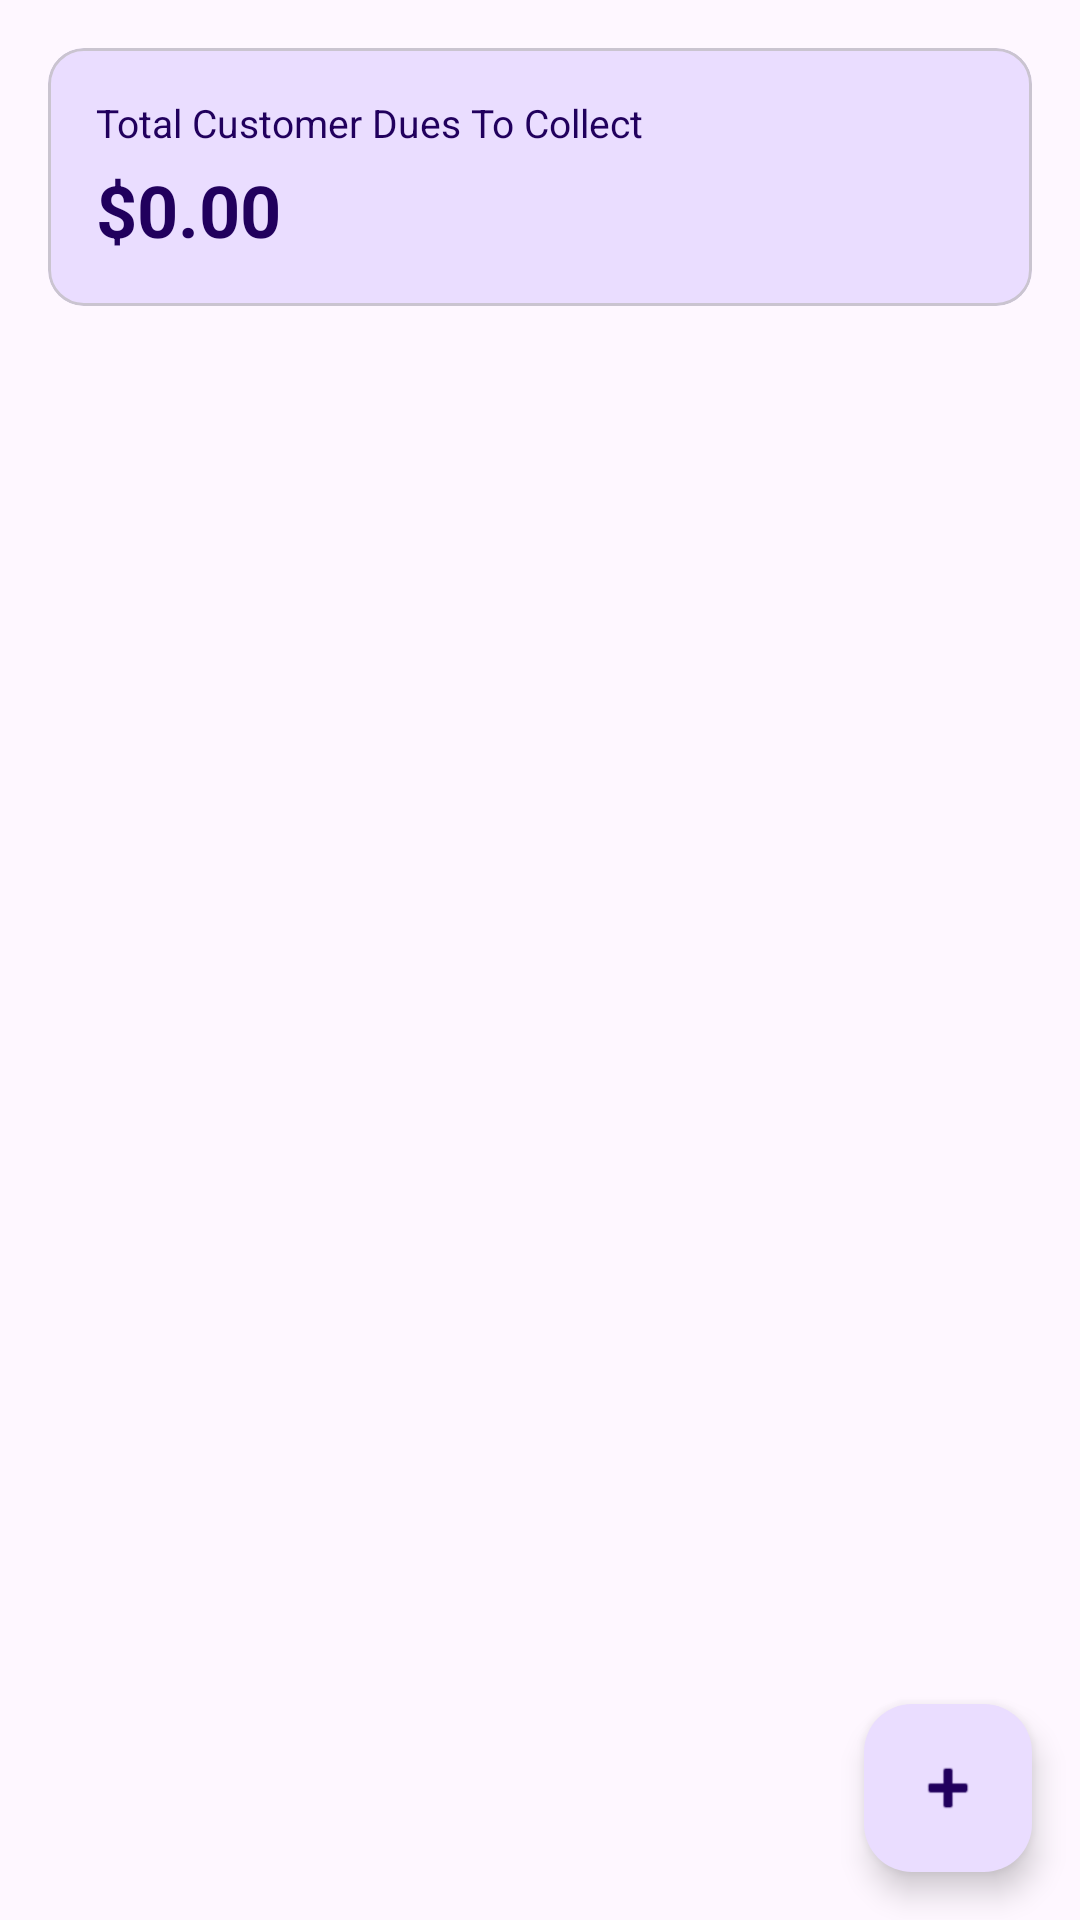

Point at icon controls on the screen. Image size 1080*1920, points as (x,y).
Add Customer: (948,1788)
